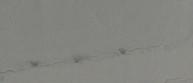fissura: (1, 29, 191, 82)
